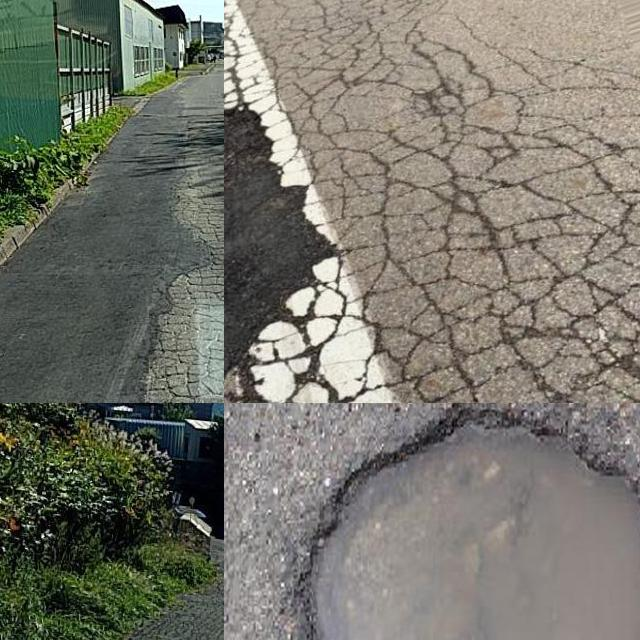Lubang: (306, 412, 640, 640)
Pinggir: (224, 93, 347, 401)
Retak Buaya: (224, 0, 640, 403)
